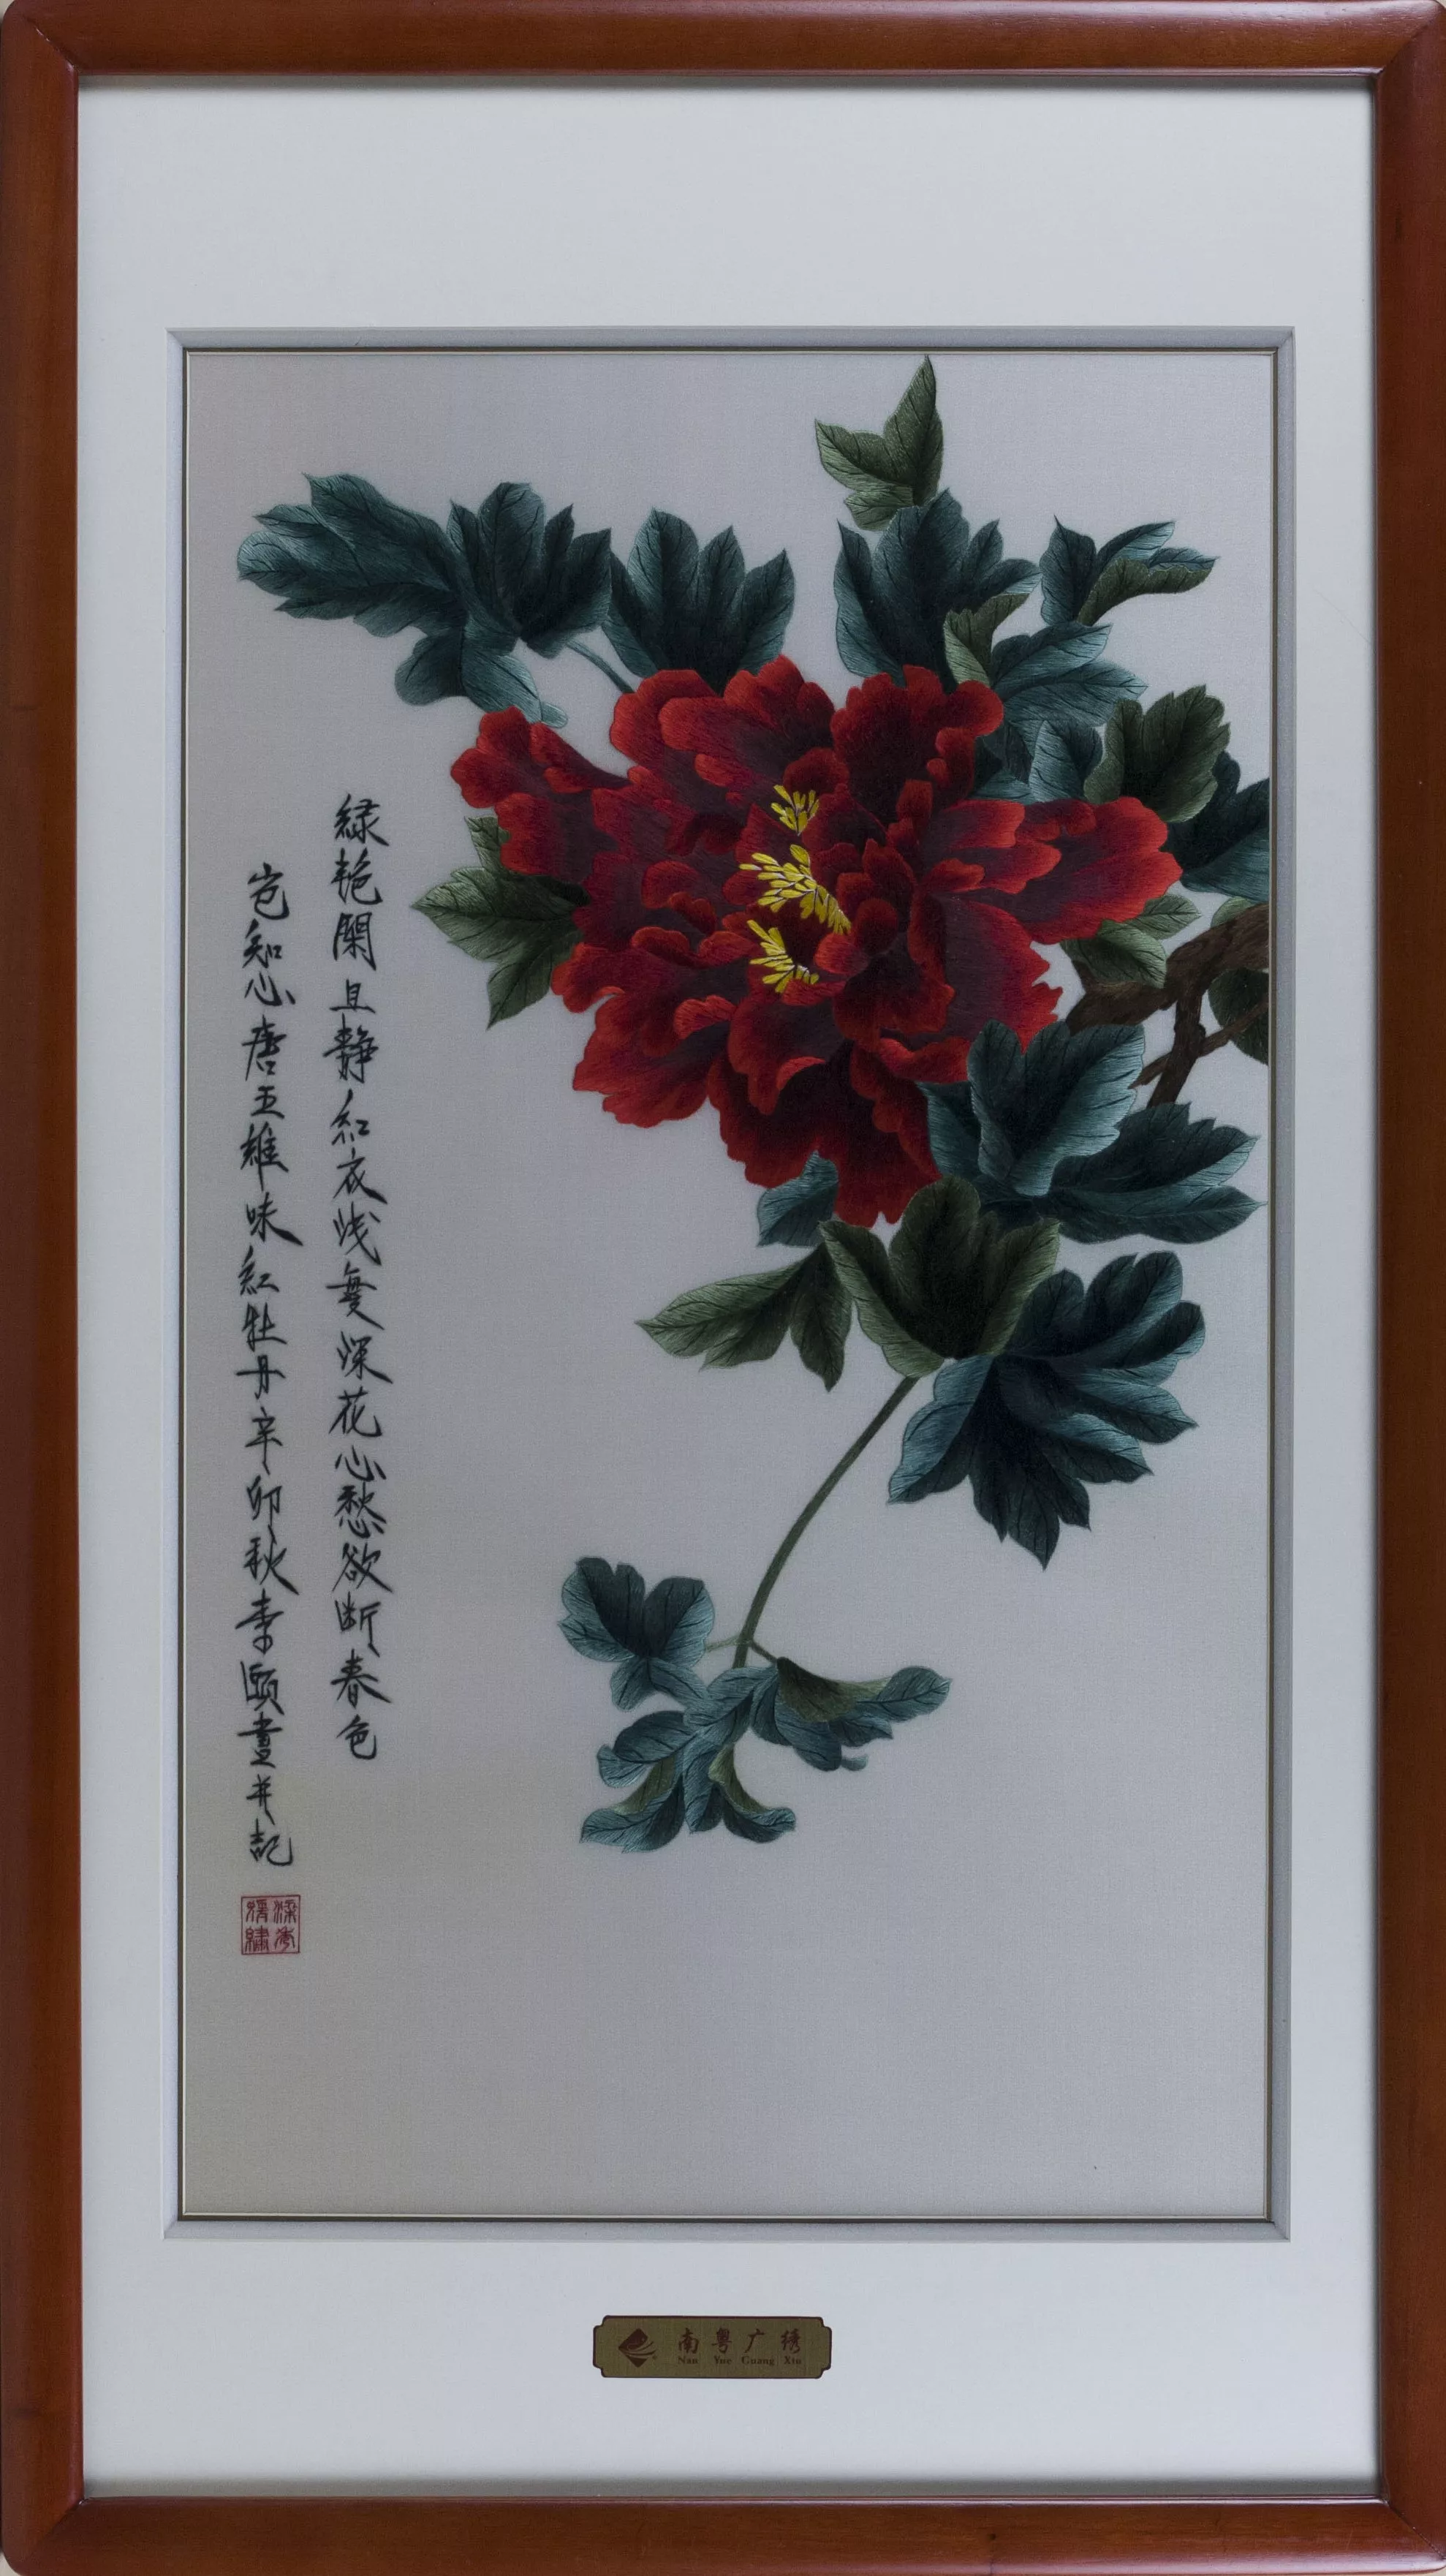flower: (456, 644, 1179, 1227)
